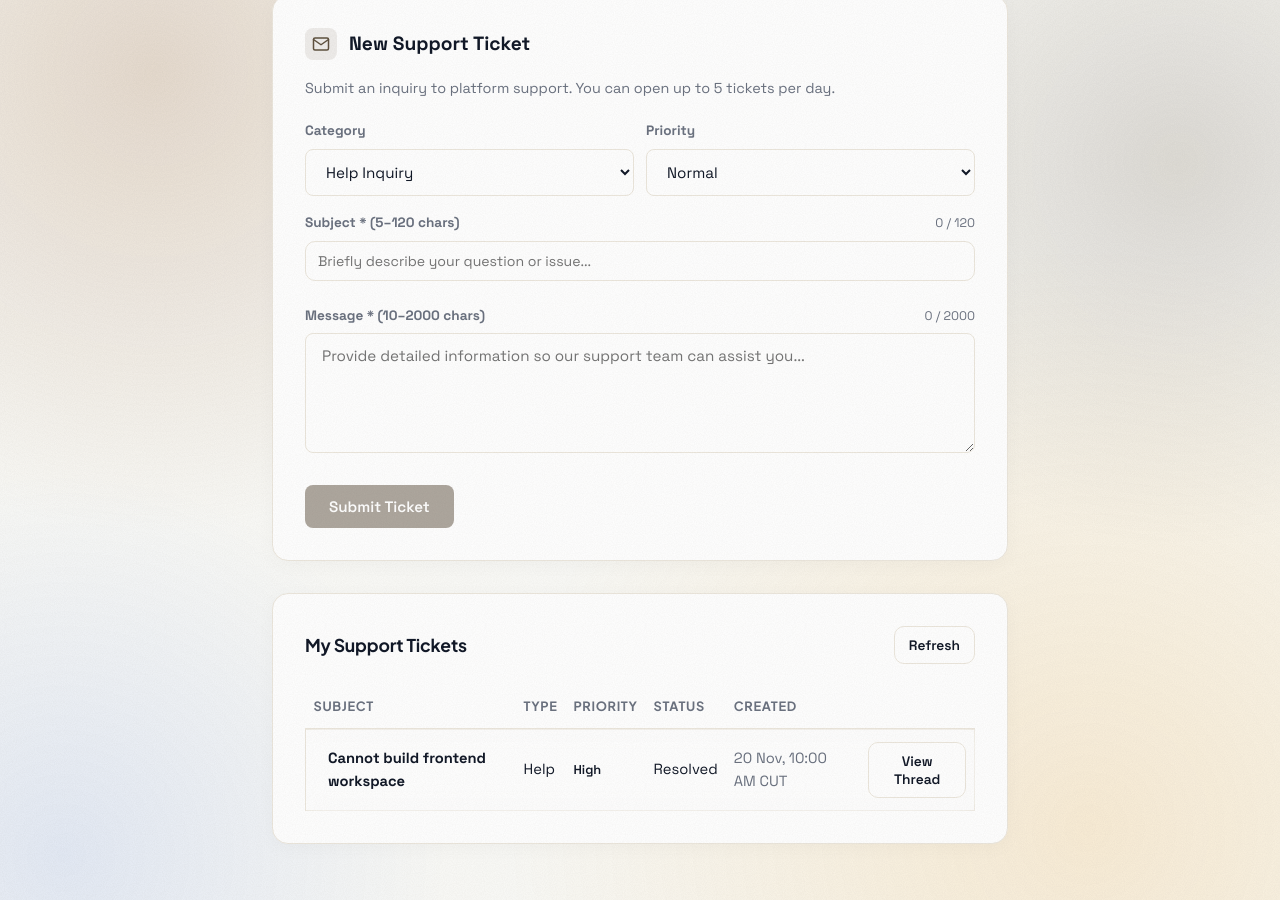
Test: Step 4 Frontend Tests: Resolved or Rejected Support Tickets Must Be Read-Only › 5. User ticket view (help.jsx) hides reply box and shows Open Follow-Up Ticket button for terminal tickets
(page scrolled)
Expected: the table with test id "my-tickets-list" is shown, 305,684 -> 975,811
Note: Click view thread
Click the button with test id "view-my-ticket-ticket-resolved-1". click: {"x": 917, "y": 770}
box: 868,742 -> 966,798
(page scrolled)
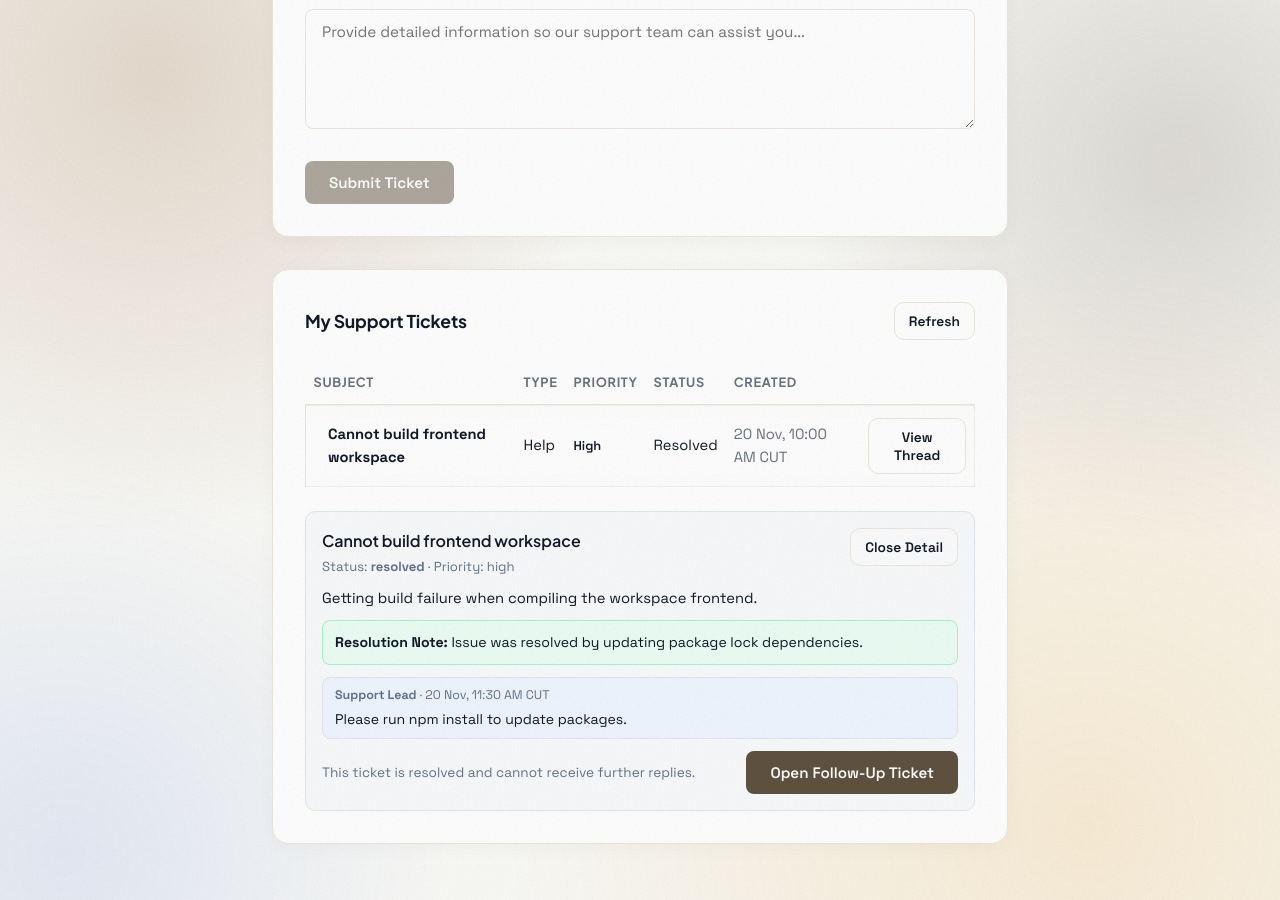
Expected: the element with test id "my-ticket-detail" is shown, 305,511 -> 975,811
Expected: the button with test id "open-followup-ticket-btn" is shown, 746,751 -> 958,794
